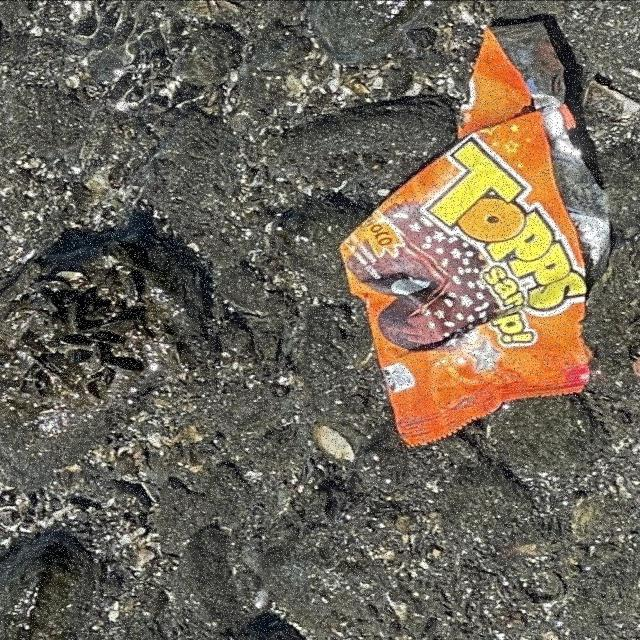plastic_waste: (339, 22, 614, 449)
